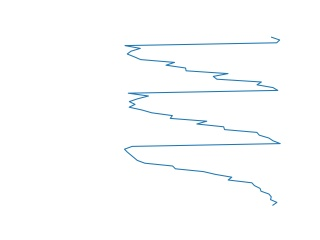distributaryMouthBar: (121, 34, 285, 210)
